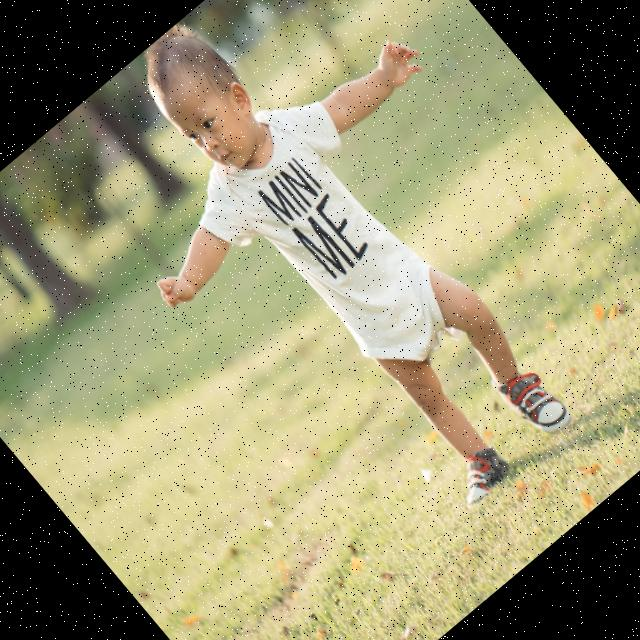Person: (33, 0, 640, 575)
